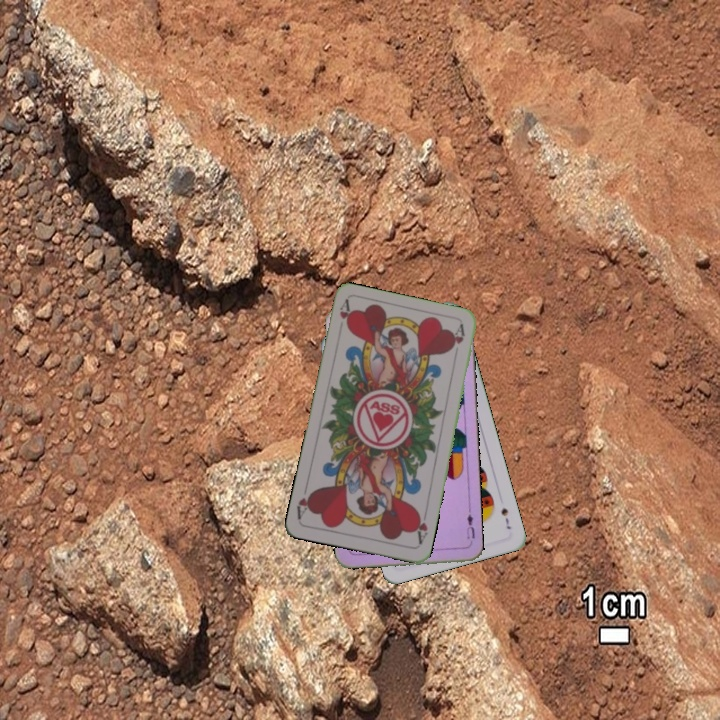EU: (462, 510, 477, 541)
HA: (410, 507, 430, 547), (335, 297, 354, 331)
S7: (497, 504, 513, 532)
